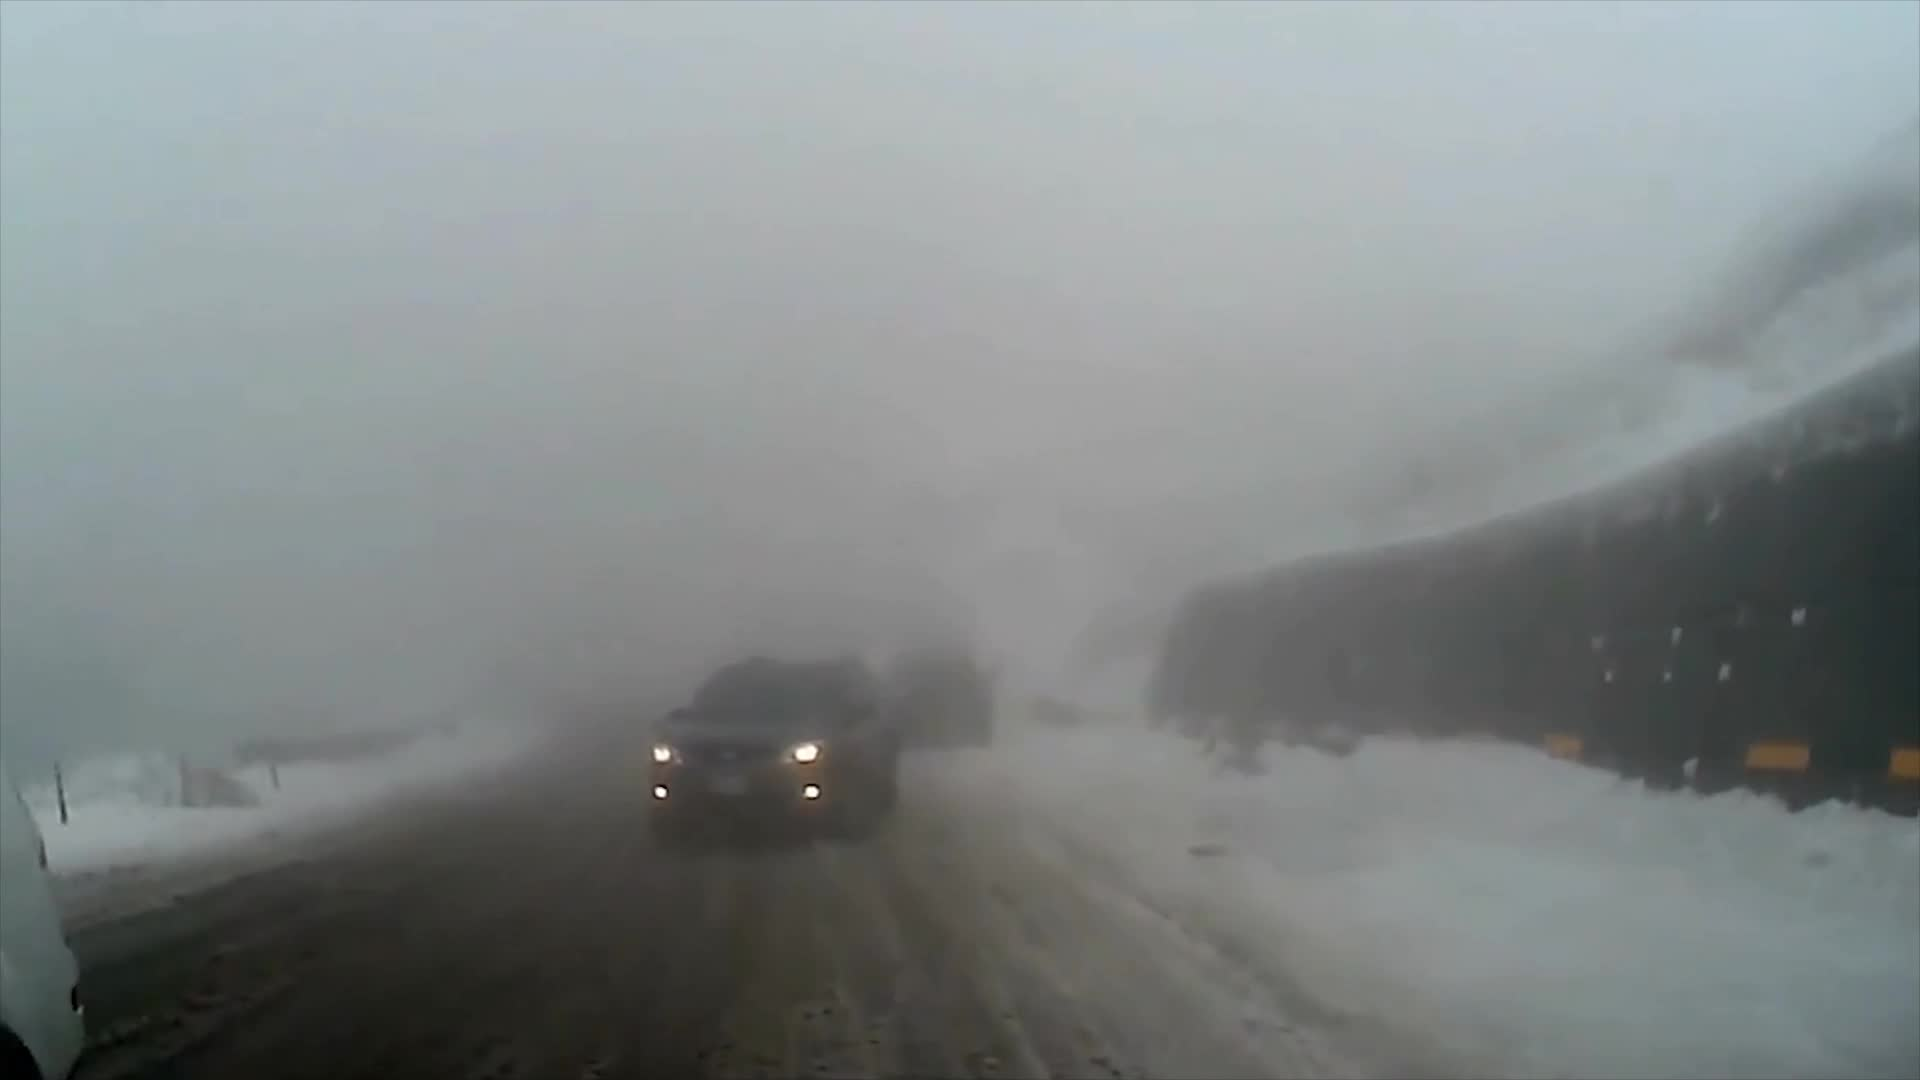vehicle: (640, 654, 895, 845), (0, 760, 87, 1079)
